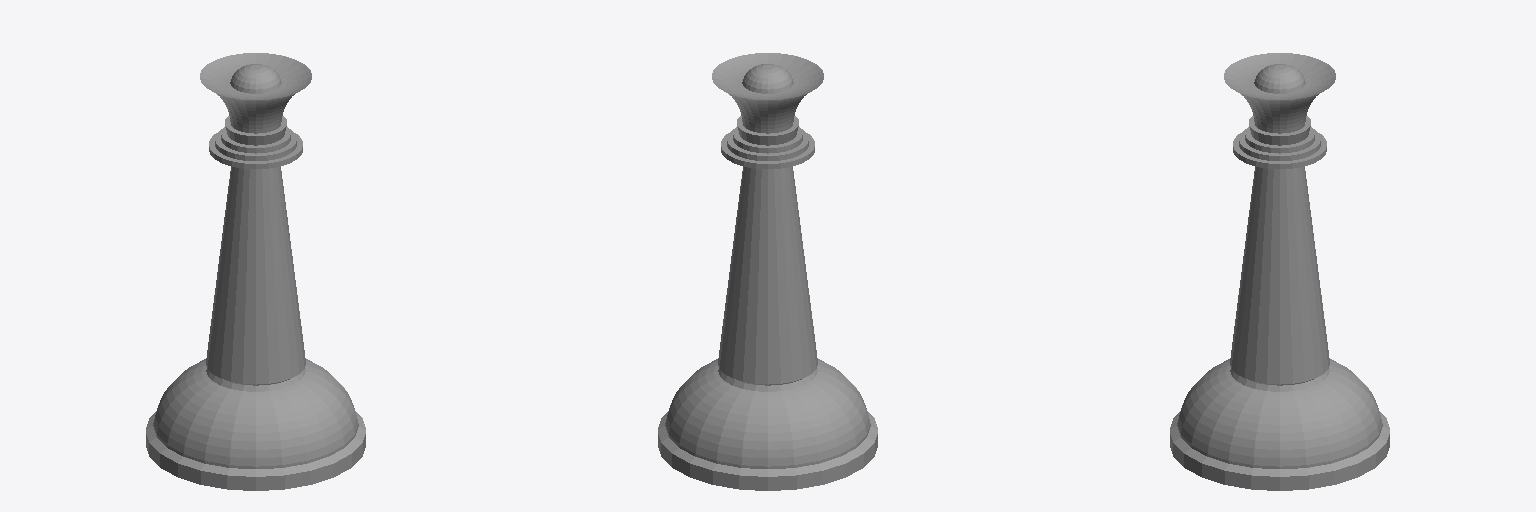
File: 5_reina.obj
3 renders of one model, left to right at view 1: azimuth 30°, elevation 25°; view 2: azimuth 150°, elevation 25°; view 3: azimuth 270°, elevation 25°, orthographic.
Visible parts, largest first — view 1: instance_33.005_ID589, instance_33_ID549, instance_33.006_ID597, instance_33.001_ID557, instance_33.002_ID565, instance_33.003_ID573, instance_33.004_ID581; view 2: instance_33.005_ID589, instance_33_ID549, instance_33.006_ID597, instance_33.001_ID557, instance_33.002_ID565, instance_33.003_ID573, instance_33.004_ID581; view 3: instance_33.005_ID589, instance_33_ID549, instance_33.006_ID597, instance_33.001_ID557, instance_33.002_ID565, instance_33.003_ID573, instance_33.004_ID581.
Part boxes in pixels (x1,y1,x2,y2): instance_33.005_ID589: (146,167,365,490); instance_33_ID549: (200,53,311,133); instance_33.006_ID597: (230,64,281,93); instance_33.001_ID557: (209,133,302,168); instance_33.002_ID565: (215,129,296,160); instance_33.003_ID573: (225,116,286,145); instance_33.004_ID581: (221,127,290,153); instance_33.005_ID589: (658,167,877,490); instance_33_ID549: (712,53,823,133); instance_33.006_ID597: (742,64,793,93); instance_33.001_ID557: (721,133,814,168); instance_33.002_ID565: (727,129,808,160); instance_33.003_ID573: (737,116,798,145); instance_33.004_ID581: (733,127,802,153); instance_33.005_ID589: (1170,167,1389,490); instance_33_ID549: (1224,53,1335,133); instance_33.006_ID597: (1254,64,1305,93); instance_33.001_ID557: (1233,133,1326,168); instance_33.002_ID565: (1239,129,1320,160); instance_33.003_ID573: (1249,116,1310,145); instance_33.004_ID581: (1245,127,1314,153).
Bounding box in the file's own units: 0.0374 × 0.0704 × 0.0374.